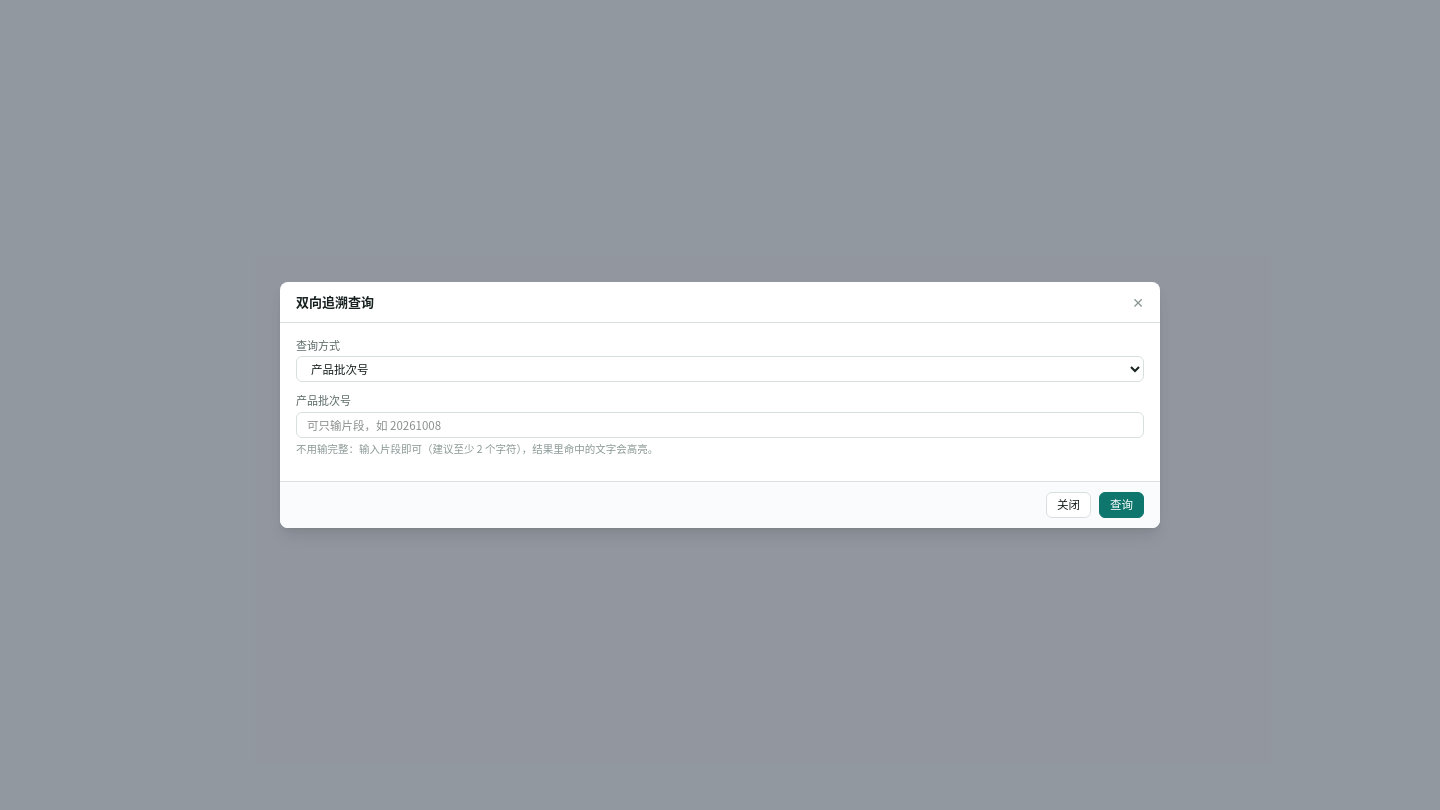
Test: 零件批次号：按入库批次反查，结果列出批次分配
The image size is (1440, 810).
Select "零件批次号" in the dropdown labelled "查询方式" at [720, 369], box x1=296 y1=356 x2=1144 y2=382
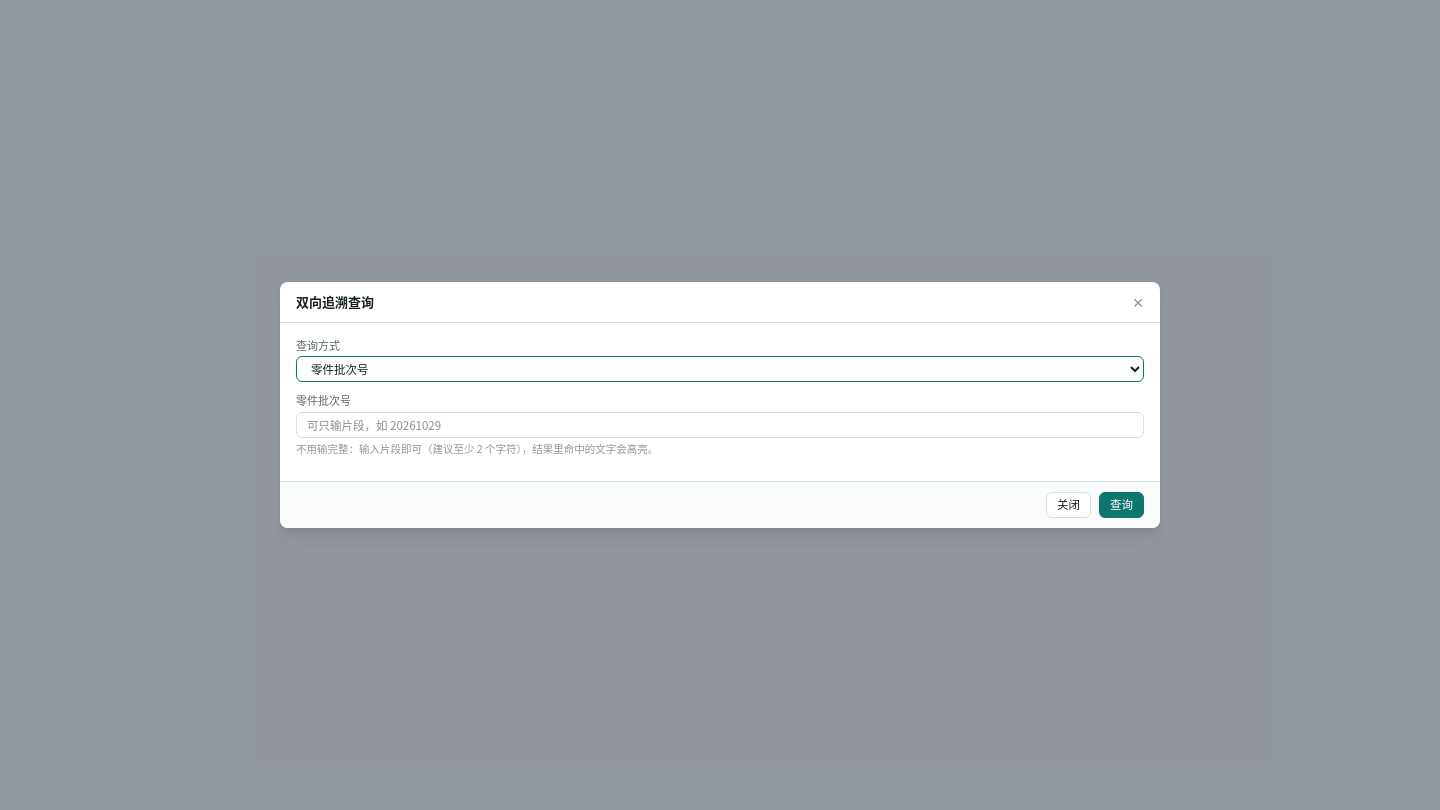
Type "20260630" into the field with placeholder "可只输片段，如 20261029" at [720, 425], box x1=296 y1=412 x2=1144 y2=438
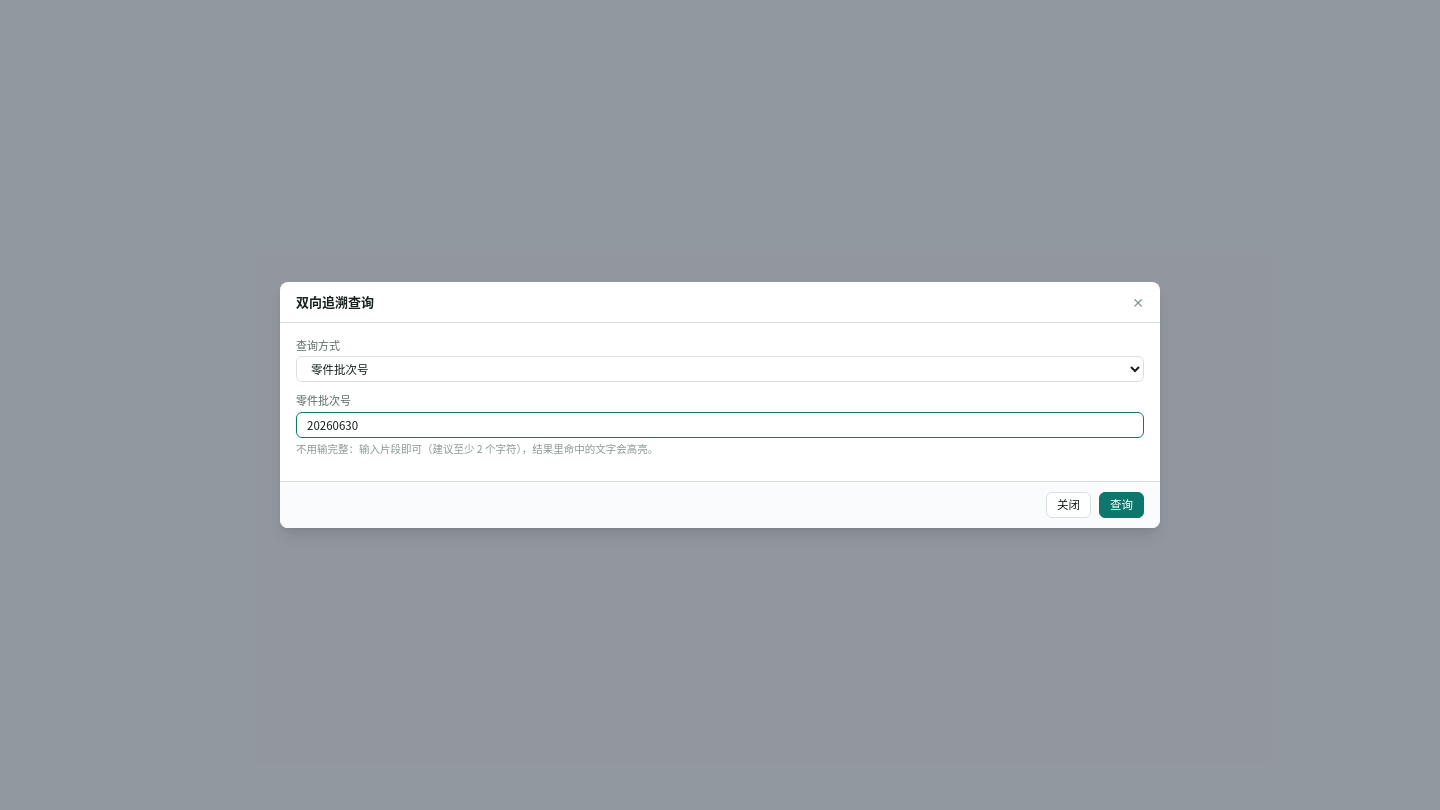
Click the button "查询" at [1122, 505], box x1=1099 y1=492 x2=1144 y2=518
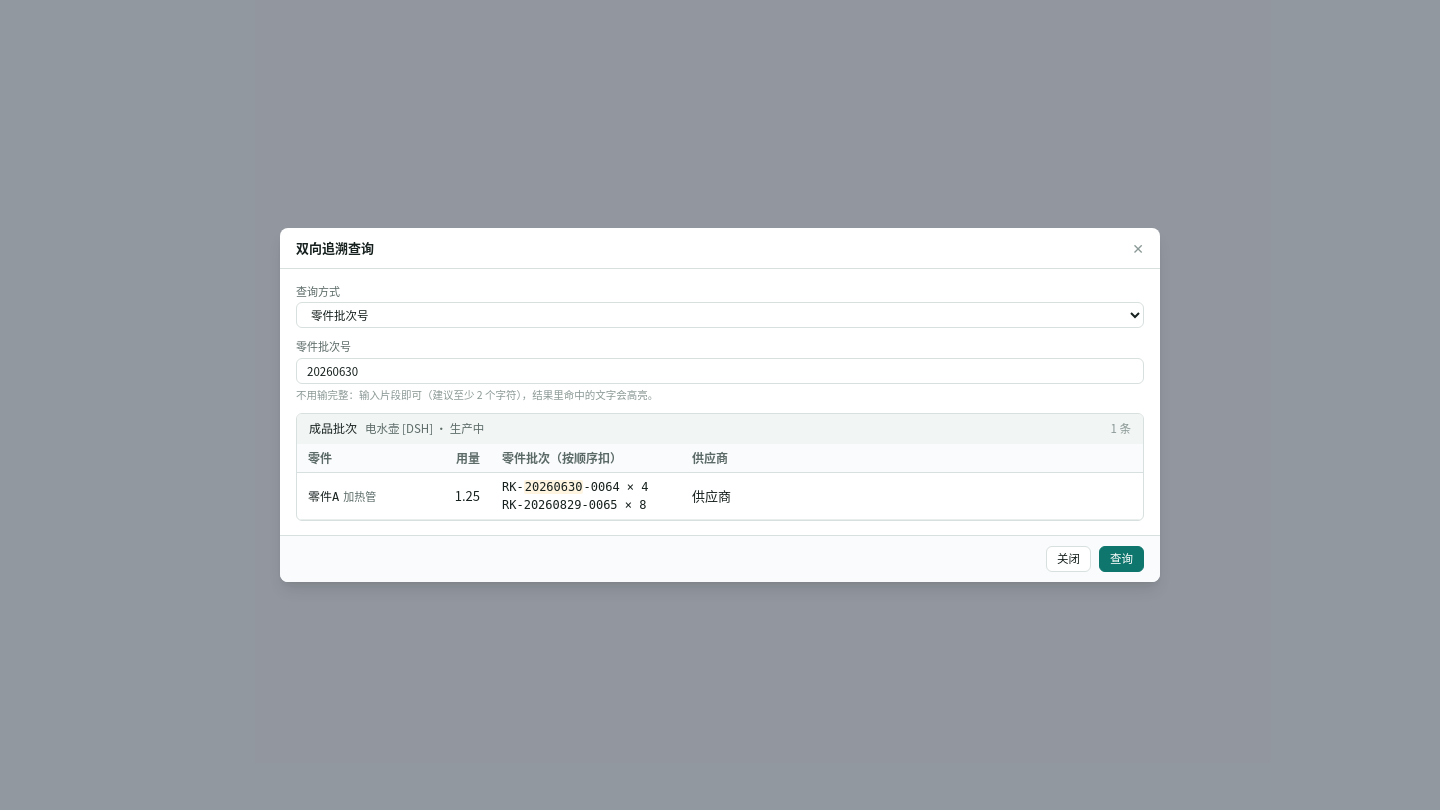
Check: the text "成品批次" is shown, box x1=309 y1=422 x2=357 y2=436
